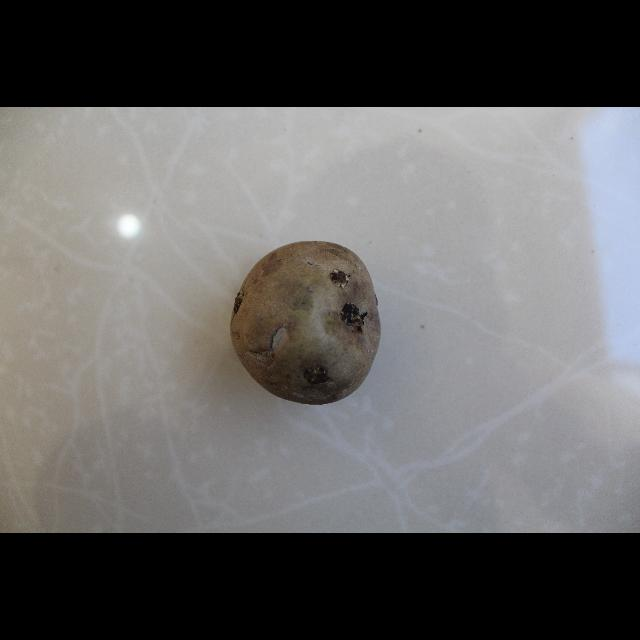Diseased-fungal potato: (255, 234, 412, 402)
